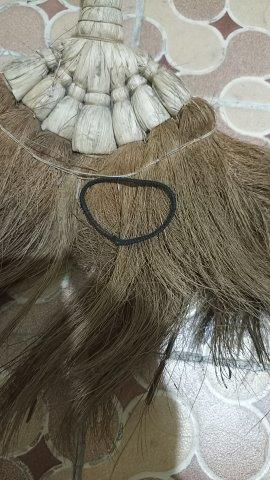karet: (79, 177, 177, 246)
